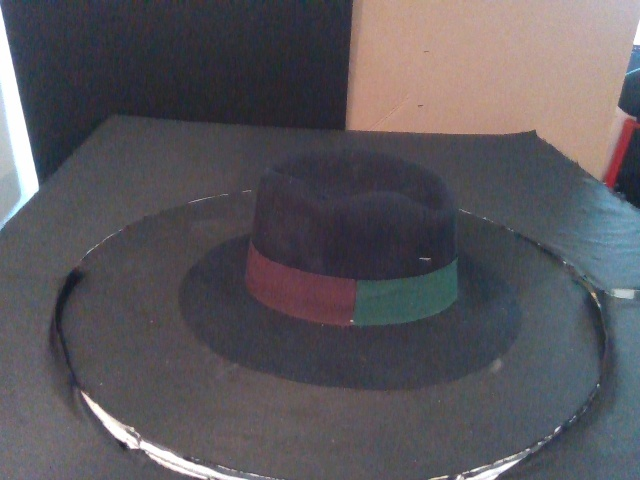hat: (176, 149, 526, 382)
